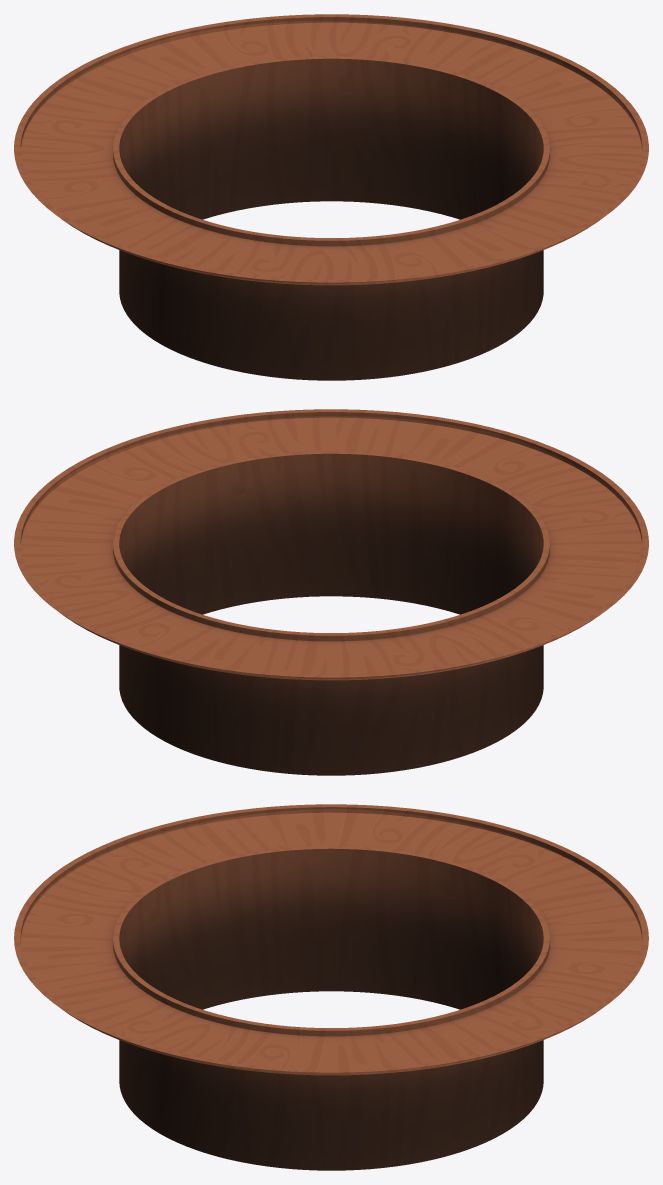
File: table_05.FBX
The picture shows the model from 3 angles, top to bottom: view 1: azimuth 30°, elevation 25°; view 2: azimuth 150°, elevation 25°; view 3: azimuth 270°, elevation 25°; orthographic projection.
Parts seen in each view (by area): view 1: table_05; view 2: table_05; view 3: table_05.
Boxes of the visible parts, x1=… form: table_05: x1=14, y1=14, x2=648, y2=380; table_05: x1=14, y1=409, x2=648, y2=775; table_05: x1=14, y1=804, x2=648, y2=1170.
Size of the model in its own units: 96.74 by 23.96 by 96.74.
